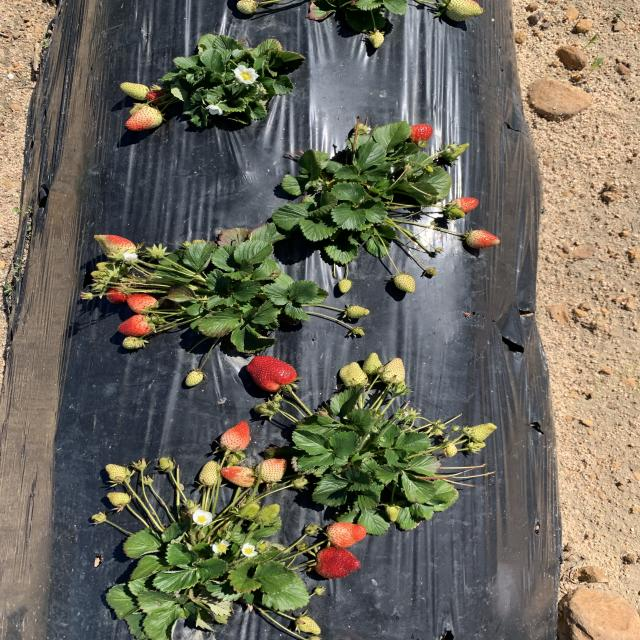unripe: (244, 354, 298, 390), (313, 547, 363, 579), (218, 419, 252, 452), (326, 520, 368, 544), (118, 314, 154, 334), (101, 283, 133, 304), (128, 294, 158, 313), (408, 122, 435, 142), (451, 196, 478, 212)
